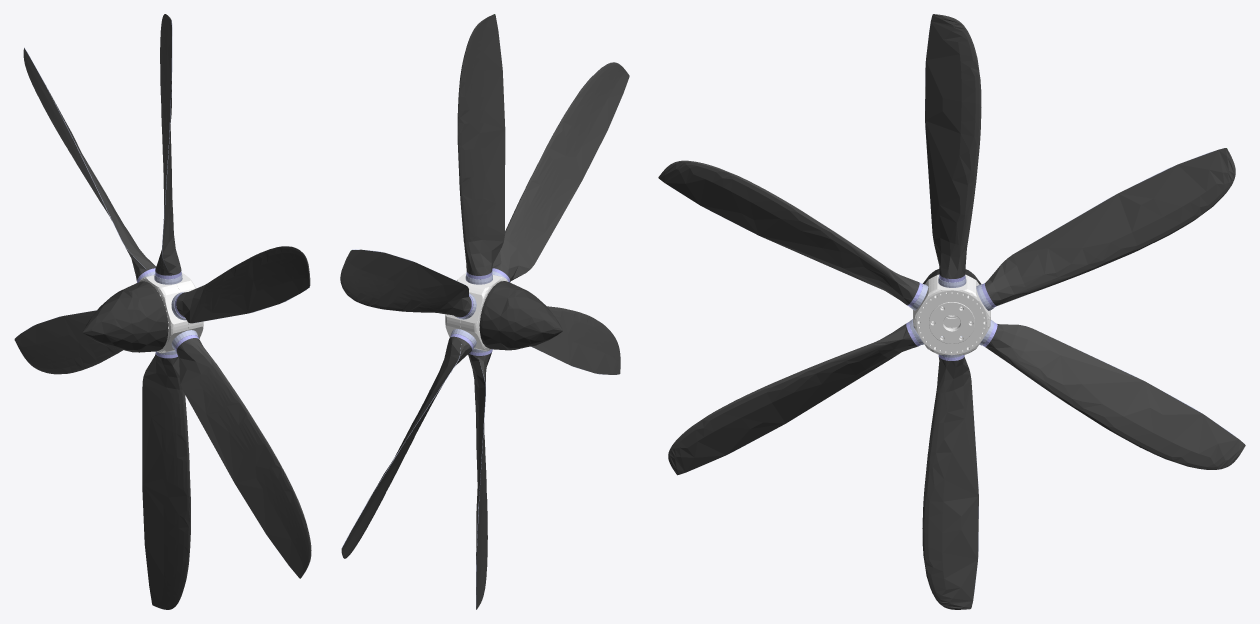
The model's file is prop.glb.
The picture shows the model from 3 angles, left to right: view 1: azimuth 30°, elevation 25°; view 2: azimuth 150°, elevation 25°; view 3: azimuth 270°, elevation 25°; orthographic projection. The views are drawn at different scales.
Visible parts, largest first — view 1: NAUO10_3, NAUO9_6, NAUO10_1, NAUO10_2, NAUO10_5; view 2: NAUO10_3, NAUO9_6, NAUO10_1, NAUO10_2, NAUO10_5; view 3: NAUO10_3, NAUO10_1, NAUO10_2.
Part boxes in pixels (box(x1,y1,x2,y2)): NAUO10_3: box(14, 14, 311, 609); NAUO9_6: box(82, 281, 168, 352); NAUO10_1: box(139, 272, 203, 353); NAUO10_2: box(16, 21, 309, 354); NAUO10_5: box(137, 268, 198, 358); NAUO10_3: box(340, 14, 629, 609); NAUO9_6: box(479, 281, 562, 350); NAUO10_1: box(445, 272, 507, 350); NAUO10_2: box(341, 57, 618, 609); NAUO10_5: box(450, 268, 509, 355); NAUO10_3: box(658, 14, 1245, 609); NAUO10_1: box(913, 274, 990, 355); NAUO10_2: box(705, 26, 1244, 593).
Size of the model in its own units: 0.3194 by 1.76 by 1.57.
